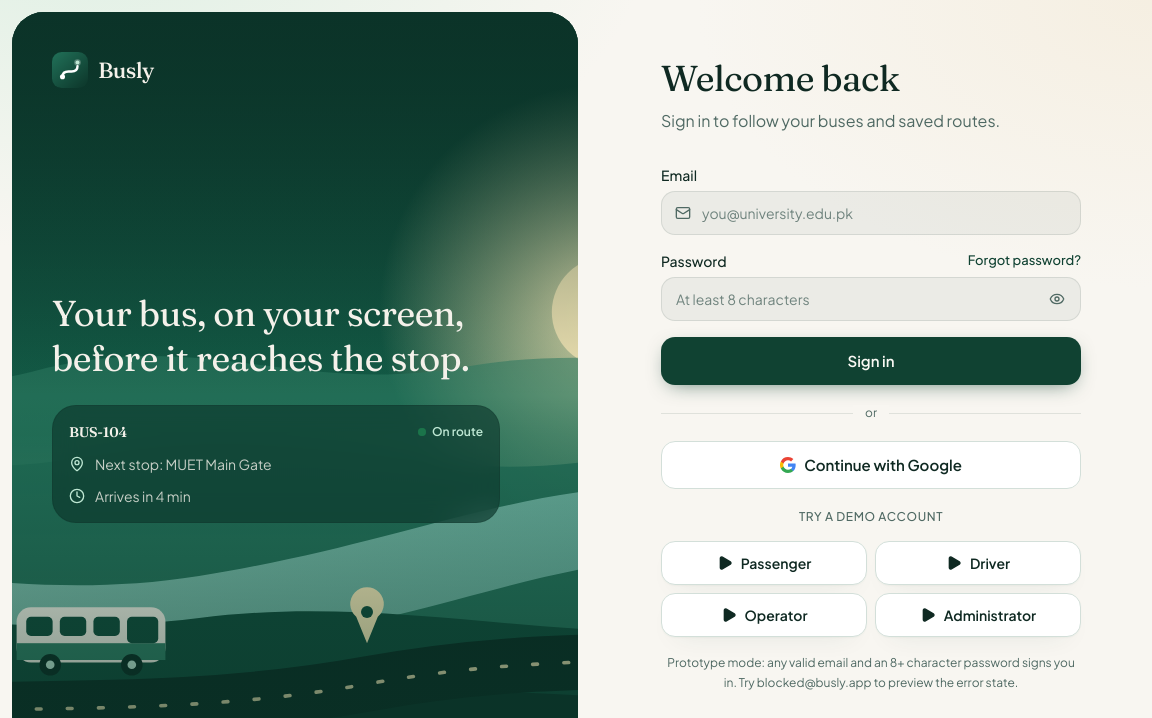
Scenario: public pages › shows the error state for the blocked demo account
In the field labelled "Email": (871, 213) [661,191,1081,235], type "blocked@busly.app"
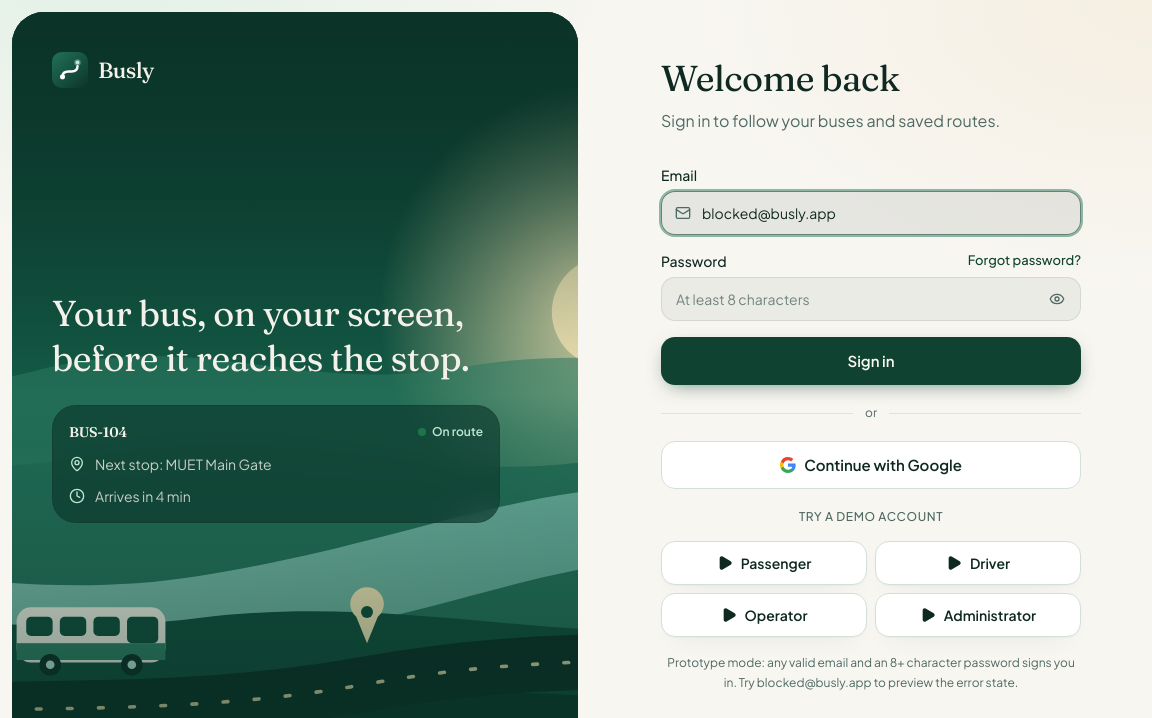
In the password field labelled "Password": (871, 299) [661,277,1081,321], type "password123"
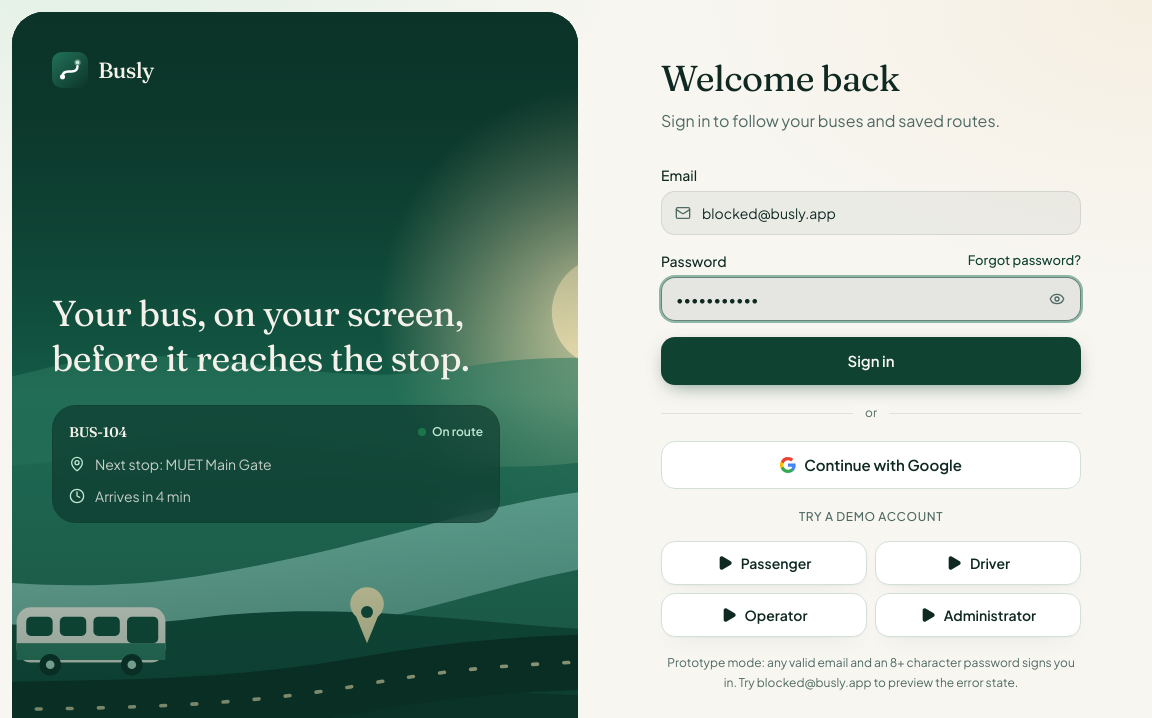
Click the button "Sign in": (871, 361) [661,337,1081,385]
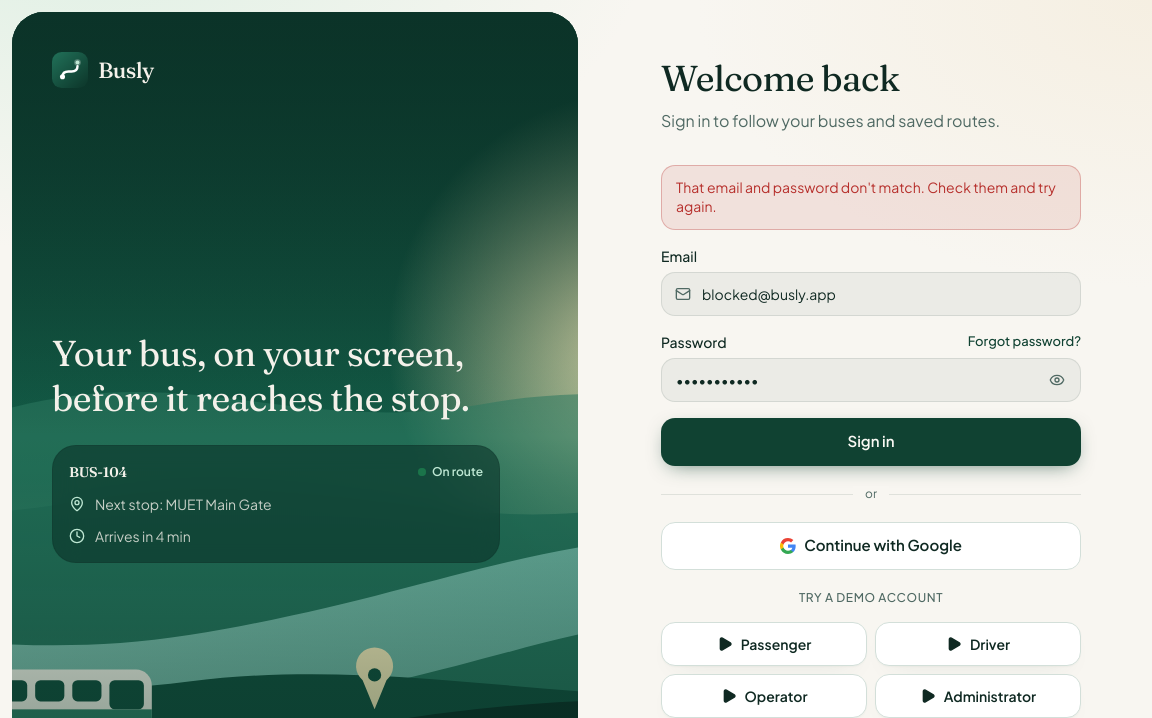
Now the text "That email and password don't match. Check them and try again." is shown, box [661,165,1081,230]
